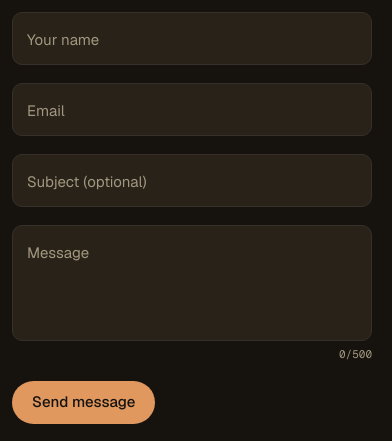
Test case: FloatingLabelForm — sending › success: check-icon panel with focused heading and the default texts
Type "  Ada  " into the field labelled "Your name". click: {"x": 192, "y": 38}
box: [12,12,372,65]
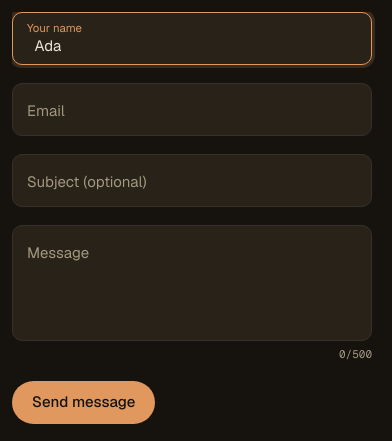
Type "ada@example.com" into the field labelled "Email". click: {"x": 192, "y": 110}
box: [12,83,372,136]
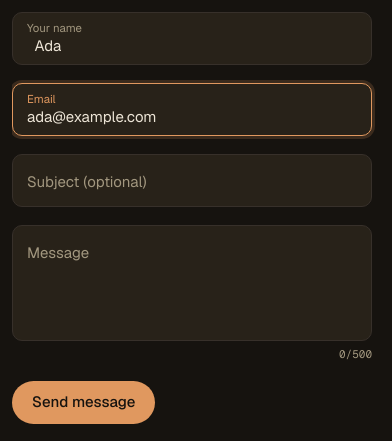
Type "Hello there, lovely radio!" into the text box labelled "Message". click: {"x": 192, "y": 283}
box: [12,225,372,341]
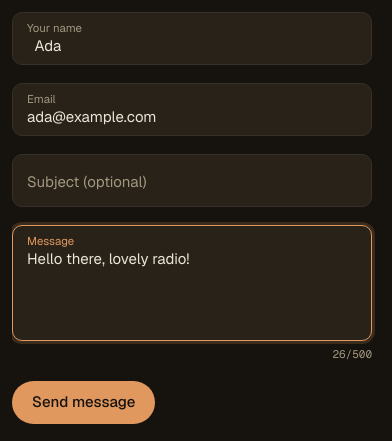
Click the button "Send message". click: {"x": 84, "y": 402}
box: [12,381,156,424]
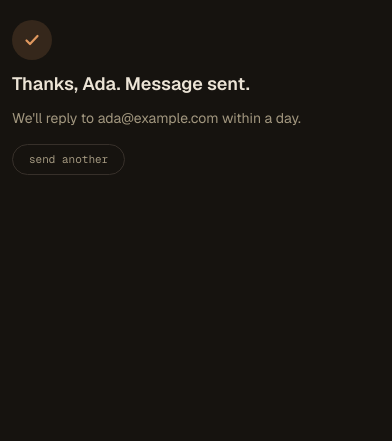
Expected: the text "We'll reply to ada@example.com within a day." is shown, [12,108,301,128]
